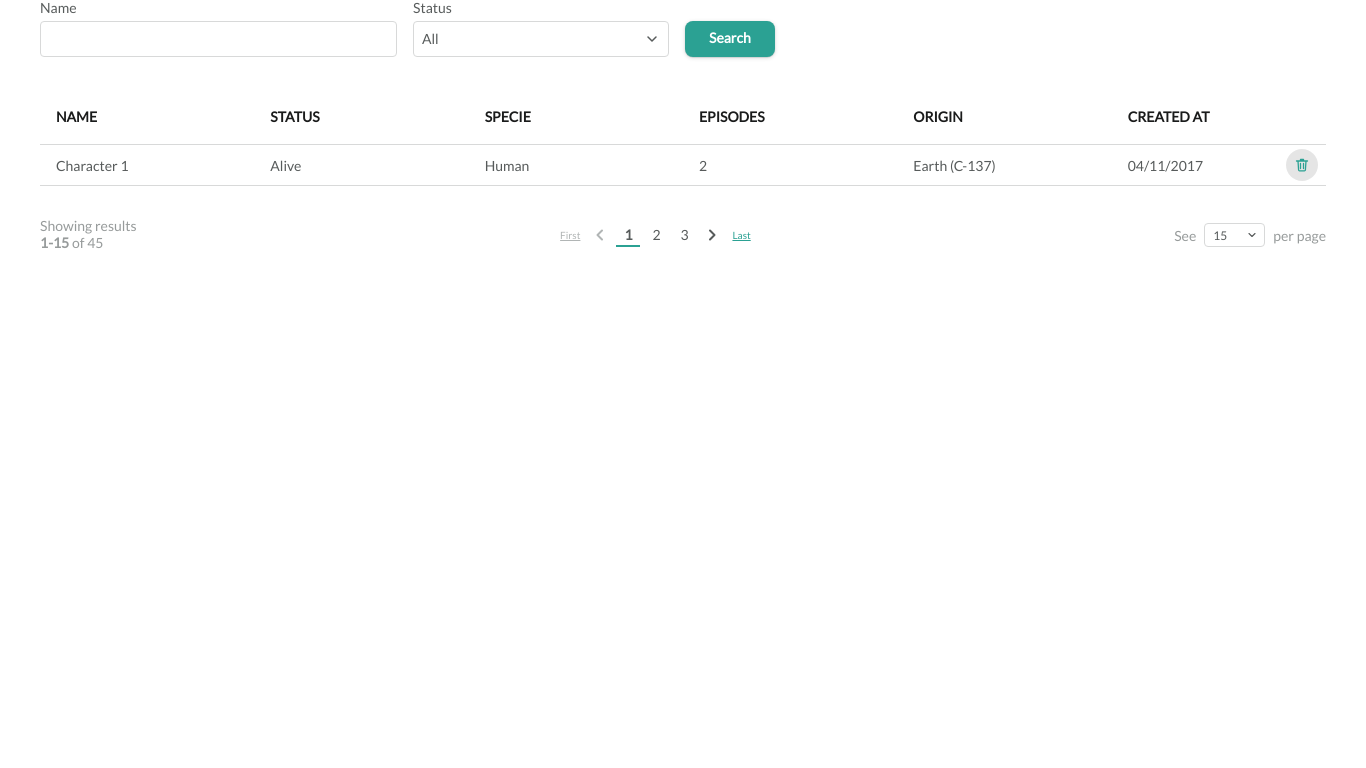
Test case: CharacterList › volta para a última página quando a atual fica vazia depois de excluir
Click the button named "Page 3" at (684, 235), box left=672, top=223, right=696, bottom=247
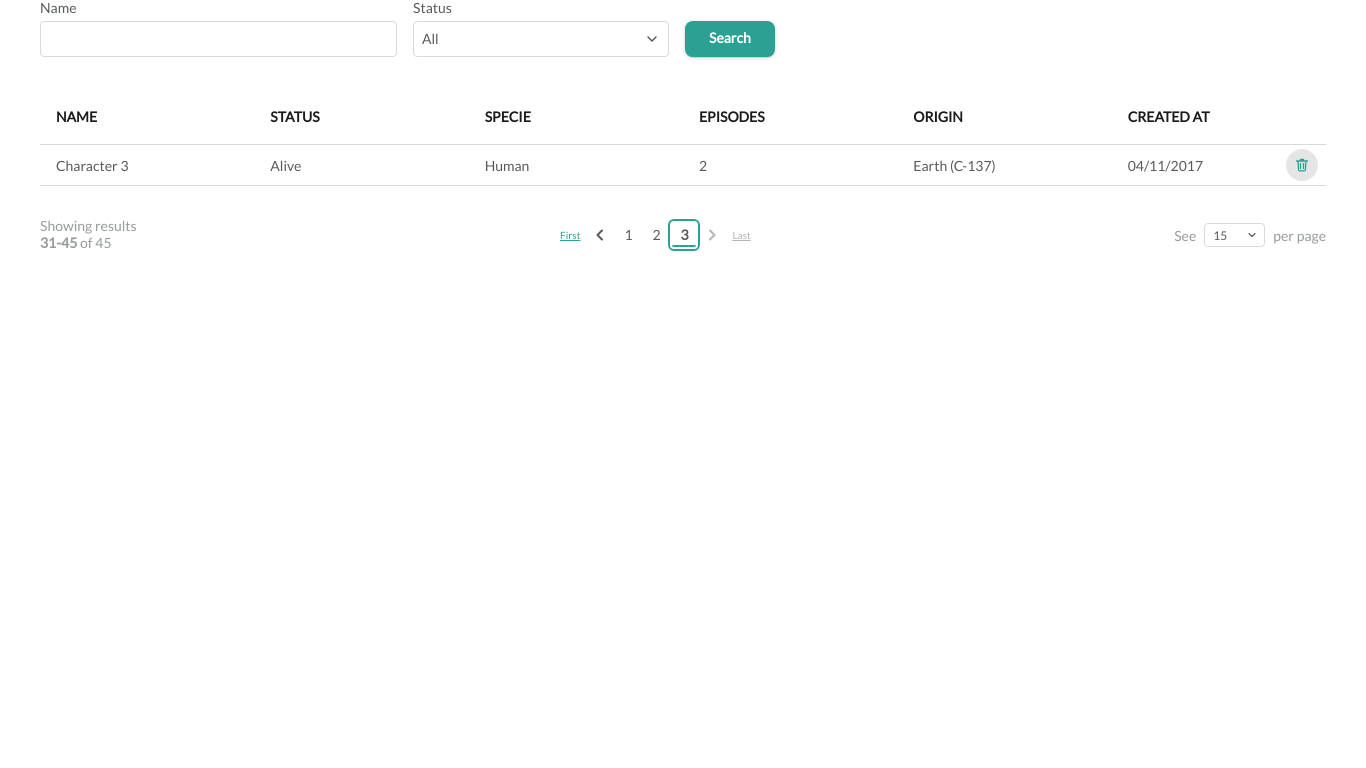
Click the button named "Delete Character 3" at (1302, 165), box left=1286, top=149, right=1318, bottom=181
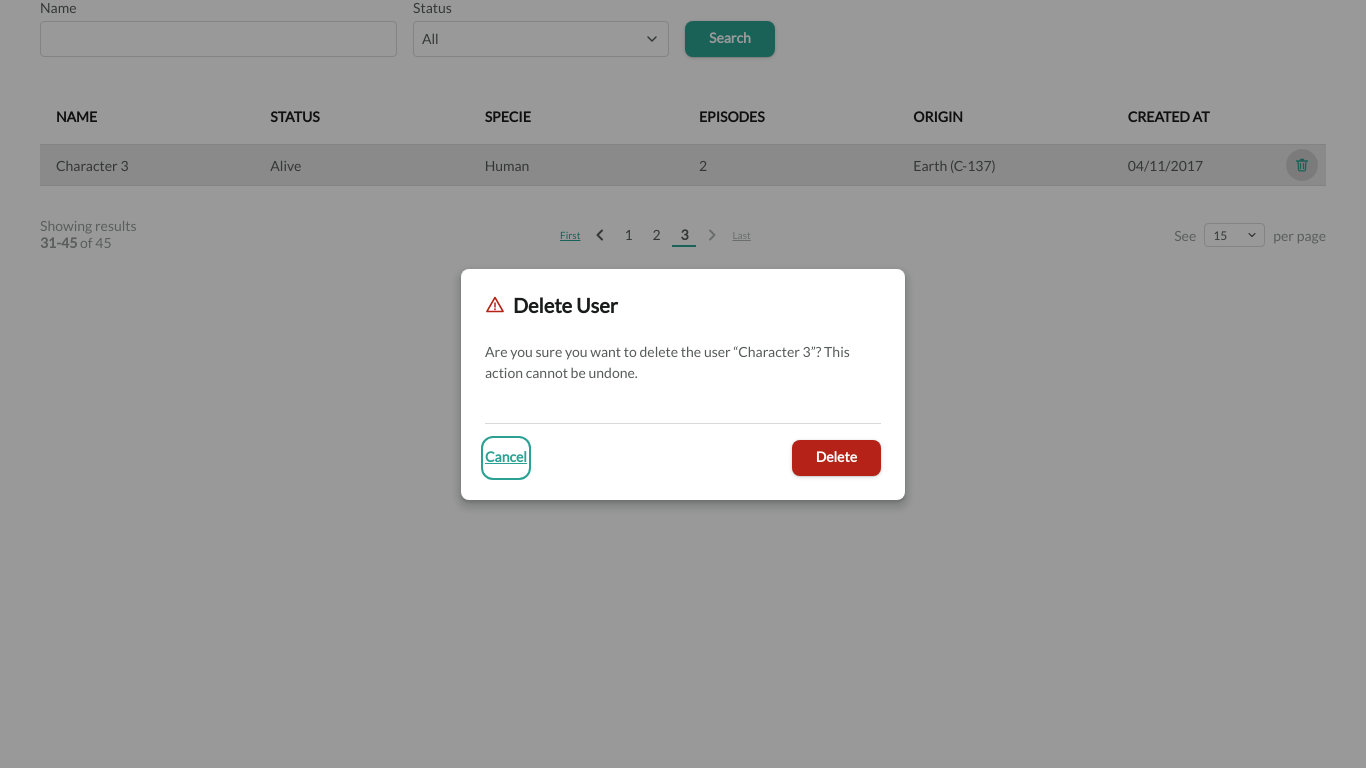
Click the button "Delete" at (836, 458), box left=792, top=440, right=881, bottom=476
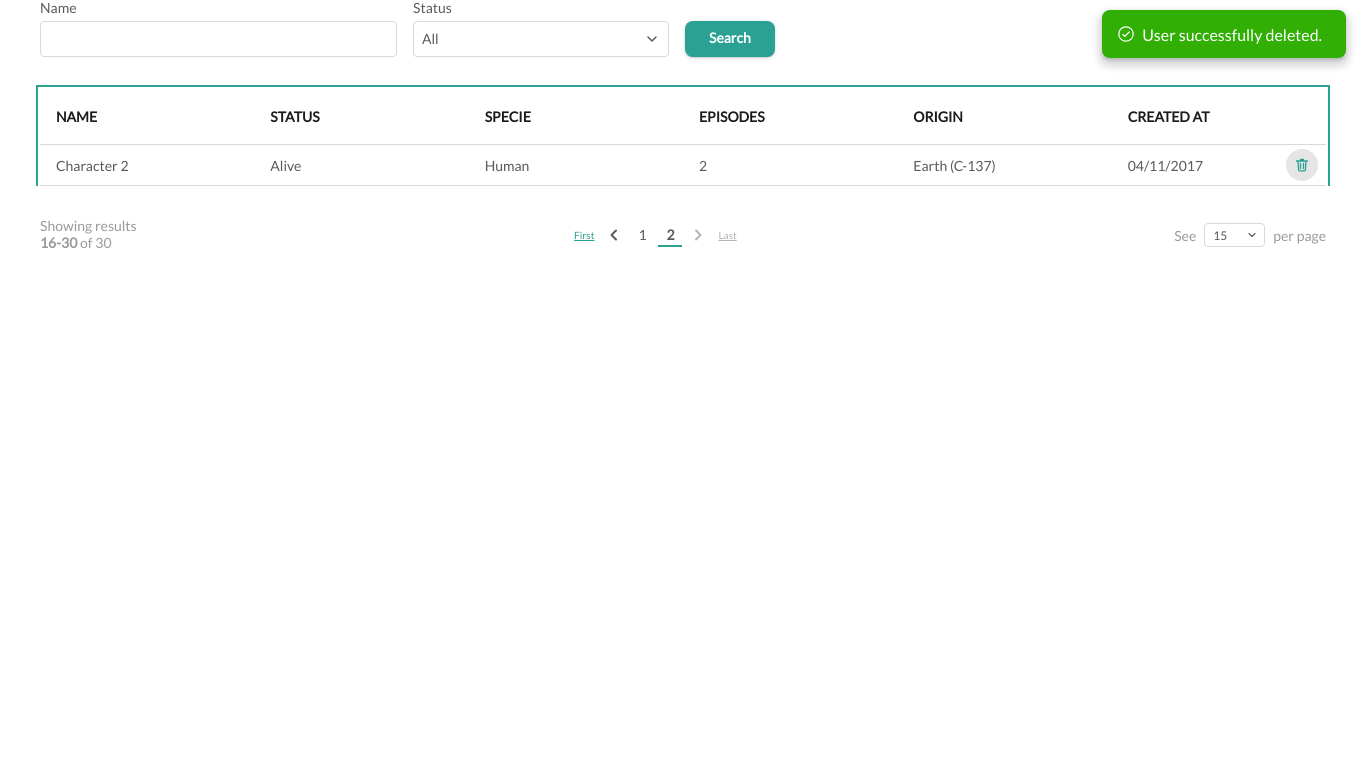
Now the cell "Character 2" is shown, box left=40, top=145, right=254, bottom=186
